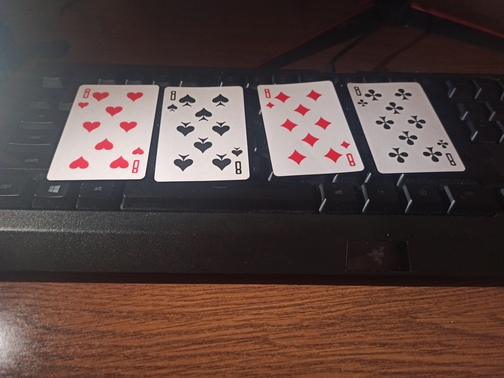eightclubs: (349, 78, 468, 179)
eightdiamonds: (253, 81, 364, 175)
eighthearts: (45, 82, 152, 180)
eightspades: (153, 85, 251, 182)
